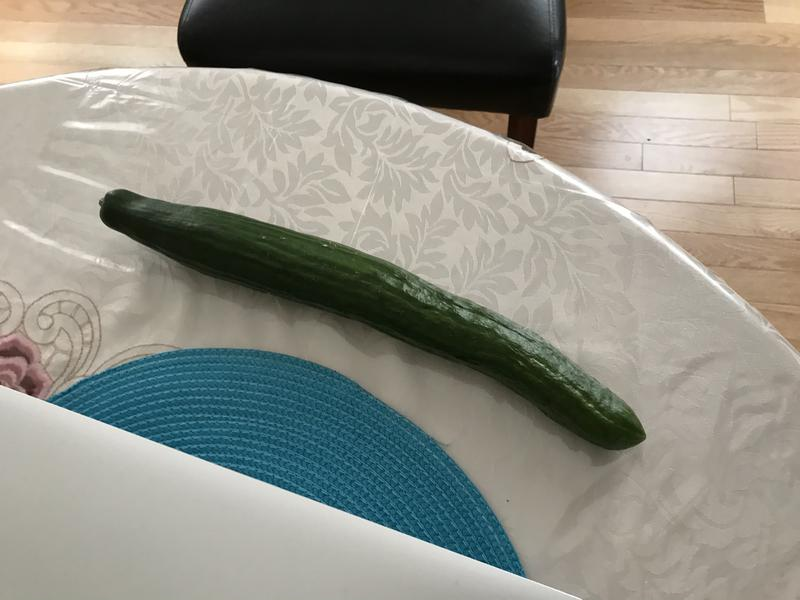cucumber: (93, 183, 654, 458)
